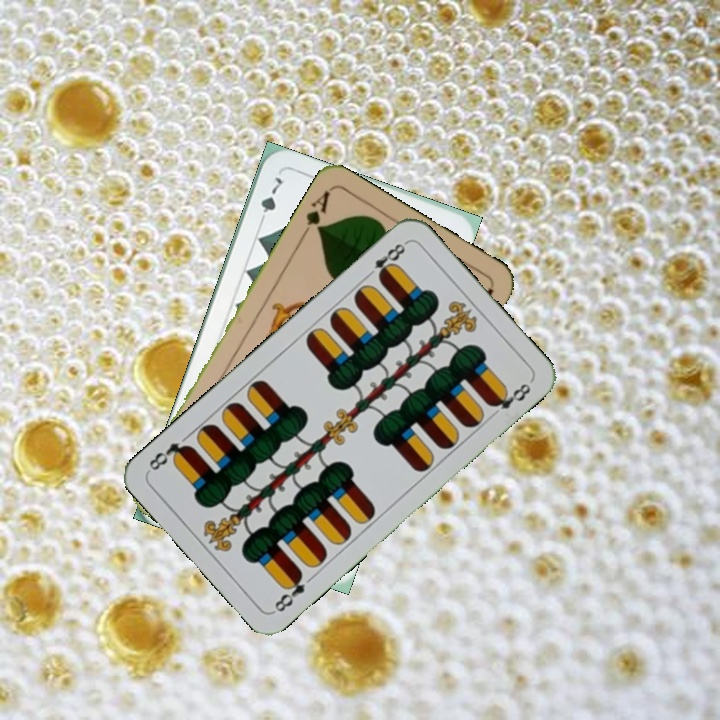E8: (361, 238, 410, 283), (270, 567, 308, 615)
G7: (255, 172, 286, 228)
GA: (297, 187, 333, 241)
